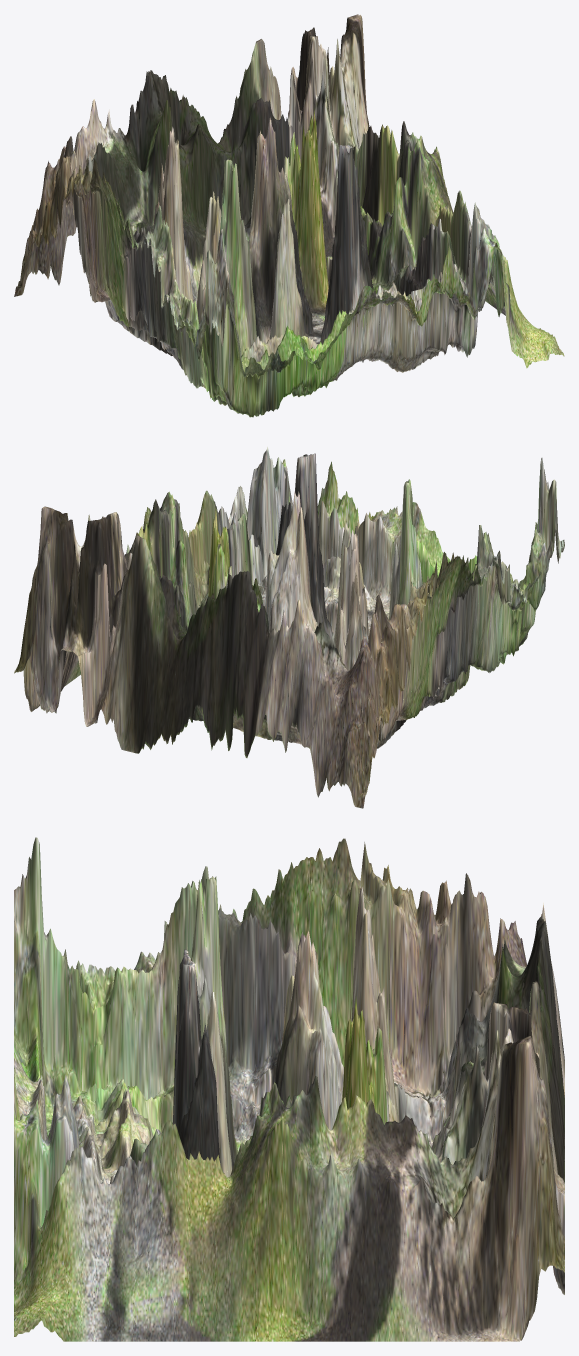
The model's file is testCarte.FBX.
3 views of the same model, one above another, from view 1: azimuth 30°, elevation 25°; view 2: azimuth 150°, elevation 25°; view 3: azimuth 270°, elevation 25° (orthographic). The views are drawn at different scales.
Parts seen in each view (by area): view 1: default; view 2: default; view 3: default.
Part boxes in pixels (bbox=[...]): default: bbox=[14, 14, 564, 417]; default: bbox=[14, 447, 564, 808]; default: bbox=[14, 837, 564, 1341].
Bounding box in the file's own units: 256 × 148 × 256.
